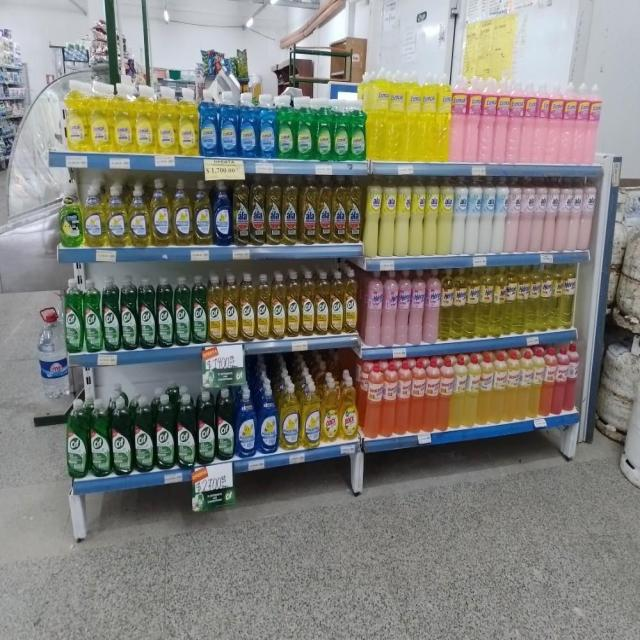ala_conc_amarillo: (300, 173, 316, 245), (282, 174, 298, 245), (347, 175, 363, 244), (232, 177, 248, 246), (266, 174, 281, 245), (250, 174, 265, 245), (317, 174, 331, 244), (332, 174, 346, 243)
ala_crem_amarillo: (364, 178, 380, 256), (411, 177, 425, 257), (381, 178, 395, 257), (438, 177, 452, 256), (396, 178, 410, 256), (425, 176, 438, 256)
ala_crem_blanco: (453, 177, 467, 255), (467, 177, 481, 255), (494, 177, 508, 255), (481, 177, 494, 255)
ala_crem_rosado: (582, 178, 597, 251), (521, 180, 534, 253), (508, 178, 520, 254), (534, 180, 546, 253), (546, 180, 558, 253), (570, 180, 582, 252), (559, 180, 570, 252)
cif_conc_bot_amarilla: (208, 274, 223, 344), (240, 272, 255, 342), (224, 273, 239, 342), (286, 270, 300, 338), (272, 271, 286, 339), (256, 273, 270, 341), (315, 270, 329, 336), (344, 268, 358, 334), (301, 270, 314, 336), (330, 270, 343, 334)
cif_conc_botella_verde: (111, 396, 132, 476), (67, 398, 88, 478), (133, 395, 154, 472), (90, 397, 110, 477), (176, 390, 196, 468), (155, 392, 175, 470), (64, 277, 83, 354), (102, 274, 120, 352), (120, 275, 138, 350), (84, 278, 102, 353), (197, 390, 215, 464), (217, 387, 234, 460), (174, 275, 191, 346), (139, 276, 155, 349), (157, 276, 173, 348), (192, 274, 206, 344)
esencial: (368, 68, 388, 161), (388, 69, 406, 161), (421, 72, 437, 162), (406, 70, 421, 162), (451, 76, 466, 163), (437, 73, 451, 163), (467, 75, 481, 164), (482, 76, 496, 164), (350, 98, 366, 161)
heroe: (364, 269, 382, 347), (409, 269, 424, 345), (424, 269, 439, 344), (382, 268, 396, 346), (396, 269, 409, 345), (478, 270, 492, 338), (453, 268, 466, 339), (440, 268, 452, 341), (466, 269, 478, 339), (504, 266, 516, 336), (492, 267, 504, 337), (516, 266, 528, 334), (529, 265, 540, 333)
magistral_con_amarillo: (279, 380, 300, 450), (172, 177, 193, 246), (128, 183, 150, 247), (106, 183, 128, 247), (83, 183, 105, 247), (300, 379, 320, 448), (151, 178, 171, 246), (194, 179, 212, 245)
magistral_con_azul: (236, 385, 256, 458), (258, 381, 278, 454), (213, 179, 232, 245)
odex: (321, 374, 339, 443), (340, 372, 358, 440)
vencedor: (365, 364, 382, 438), (396, 360, 410, 436), (382, 362, 396, 437), (410, 359, 424, 434), (479, 352, 493, 426), (424, 358, 438, 432), (439, 357, 453, 431), (453, 354, 467, 428), (466, 352, 479, 428), (493, 350, 506, 424), (506, 349, 519, 422), (566, 346, 580, 413), (519, 348, 532, 420), (531, 347, 543, 418), (542, 348, 554, 417), (554, 348, 566, 415)
